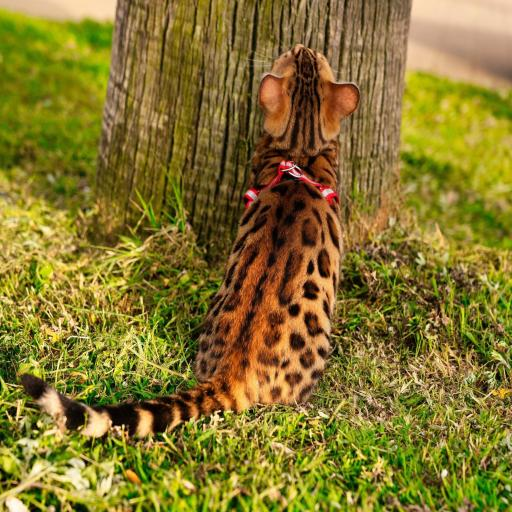cats: (24, 44, 360, 435)
